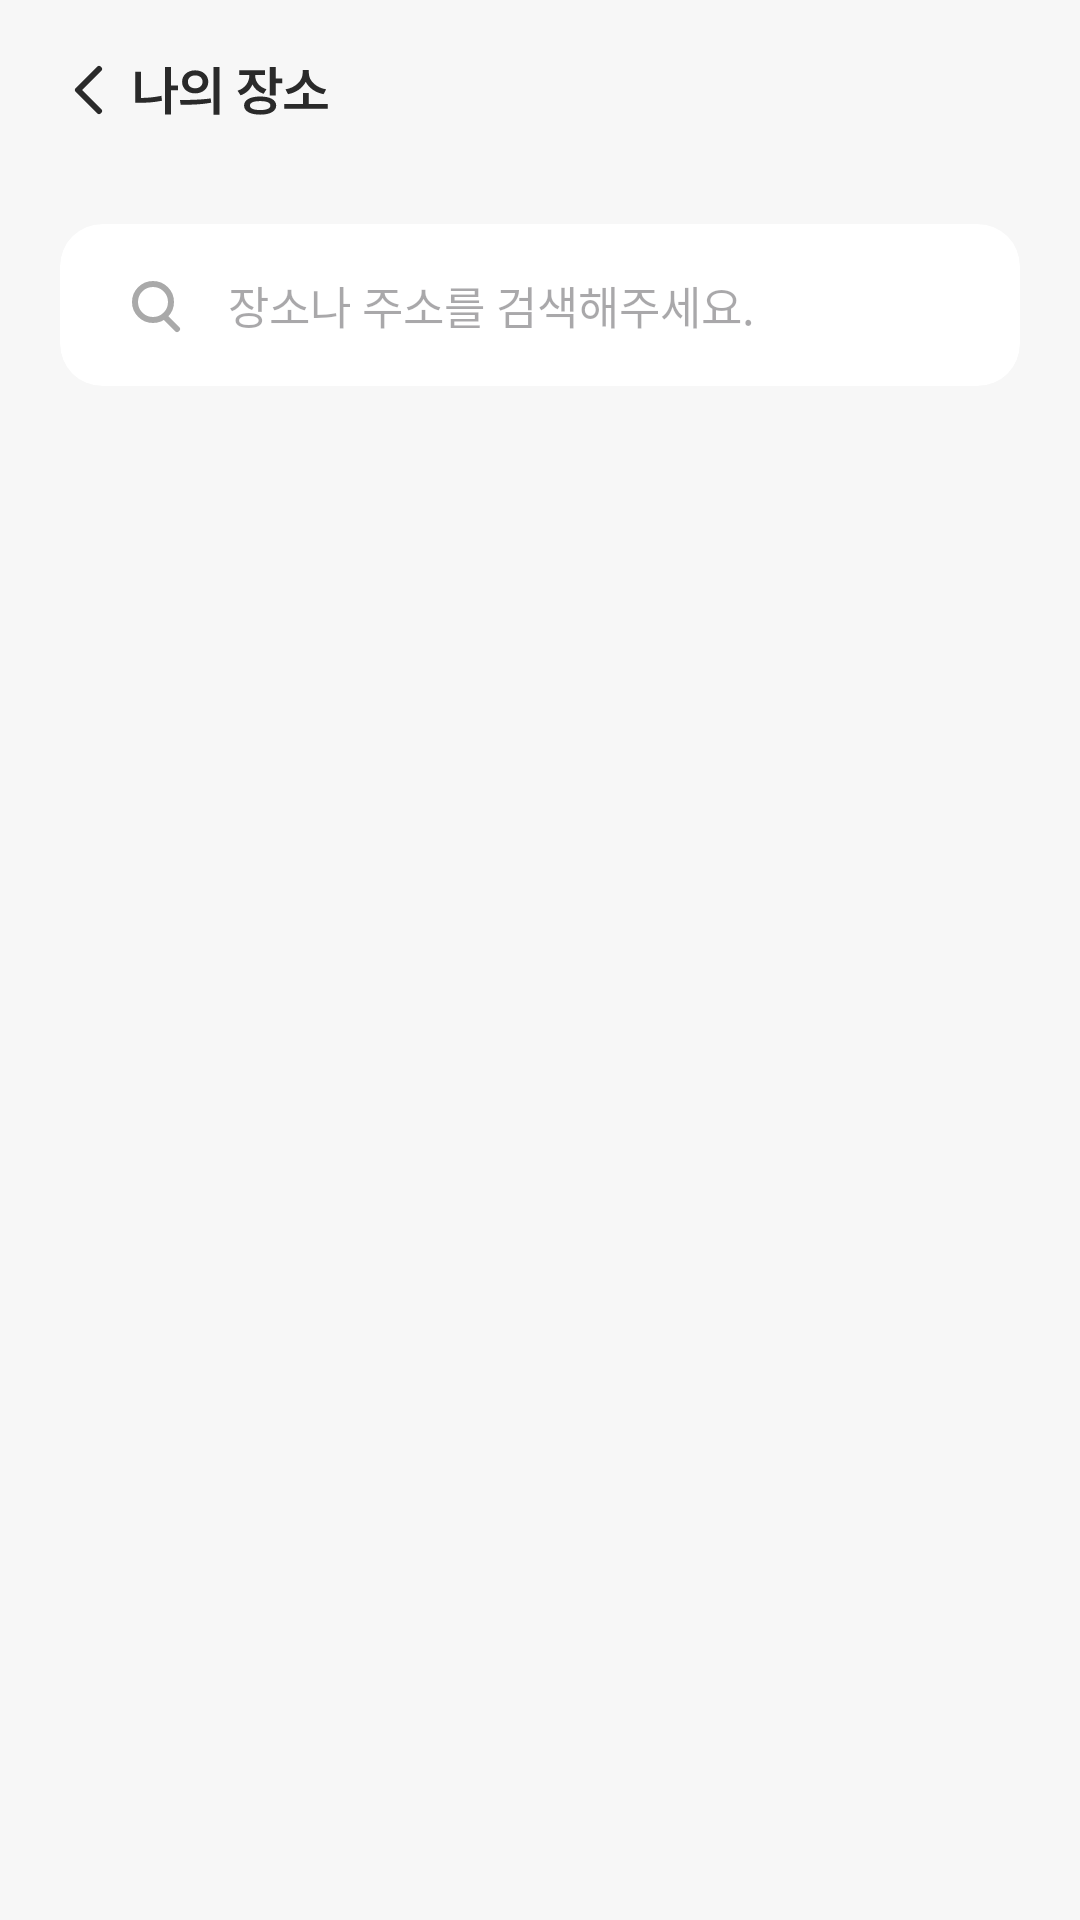

Icons on this 1080 x 1920 Android screen, each with the point to tap as [x,y]:
navigate up: [88,90]
